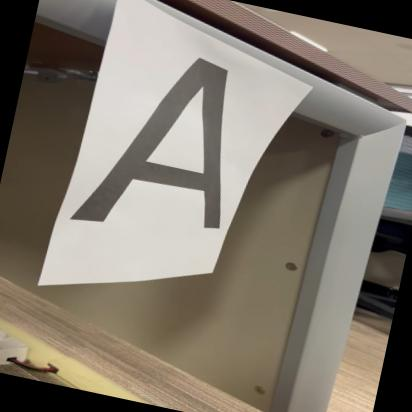seat: (63, 40, 274, 254)
